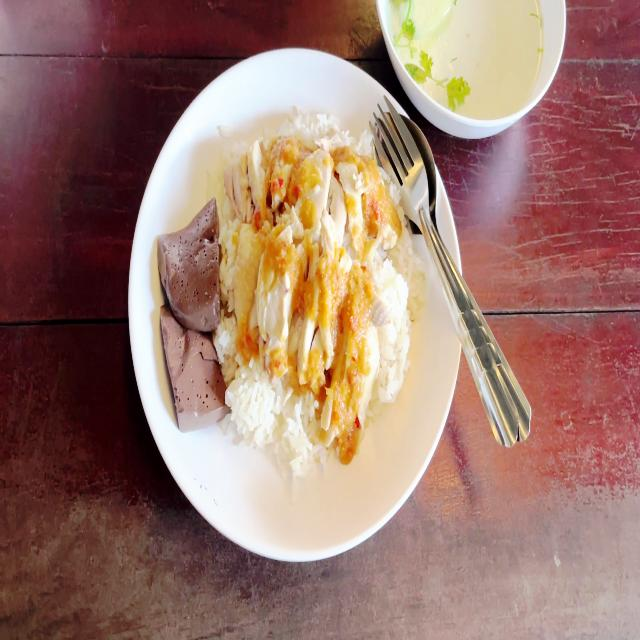boiled_chicken: (223, 146, 379, 402)
boiled_chicken_blood_jelly: (156, 193, 224, 331), (158, 295, 228, 425)
chicken_rice: (143, 106, 414, 500)
